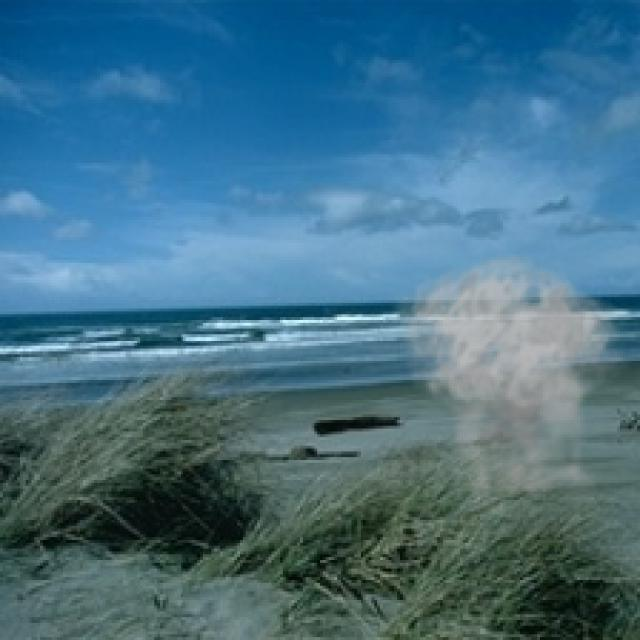smoke: (392, 252, 637, 514)
